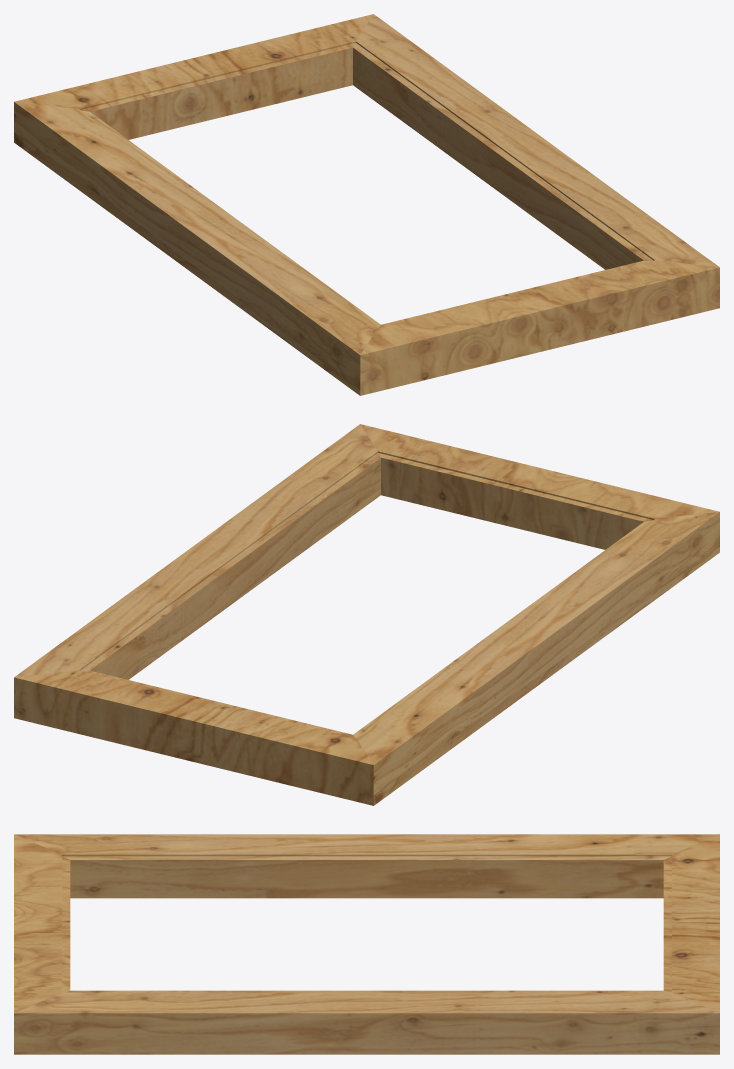
The model's file is Raam.dae.
3 views of the same model, one above another, from view 1: azimuth 30°, elevation 25°; view 2: azimuth 150°, elevation 25°; view 3: azimuth 270°, elevation 25° (orthographic).
Visible parts, largest first — view 1: Raam_geo; view 2: Raam_geo; view 3: Raam_geo.
Boxes of the visible parts, <box> form: Raam_geo: <box>14,14,719,395</box>; Raam_geo: <box>14,424,719,805</box>; Raam_geo: <box>14,834,719,1054</box>.
Bounding box in the file's own units: 30 × 3.25 × 50.
1 material, 1 textured.
